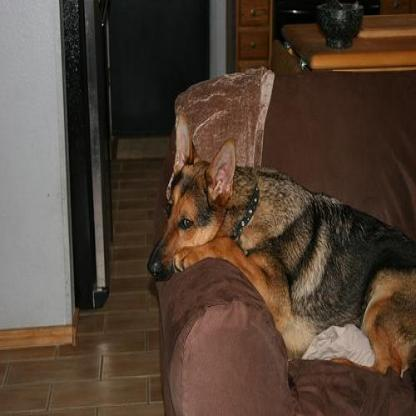German_shepherd: (146, 105, 414, 376)
